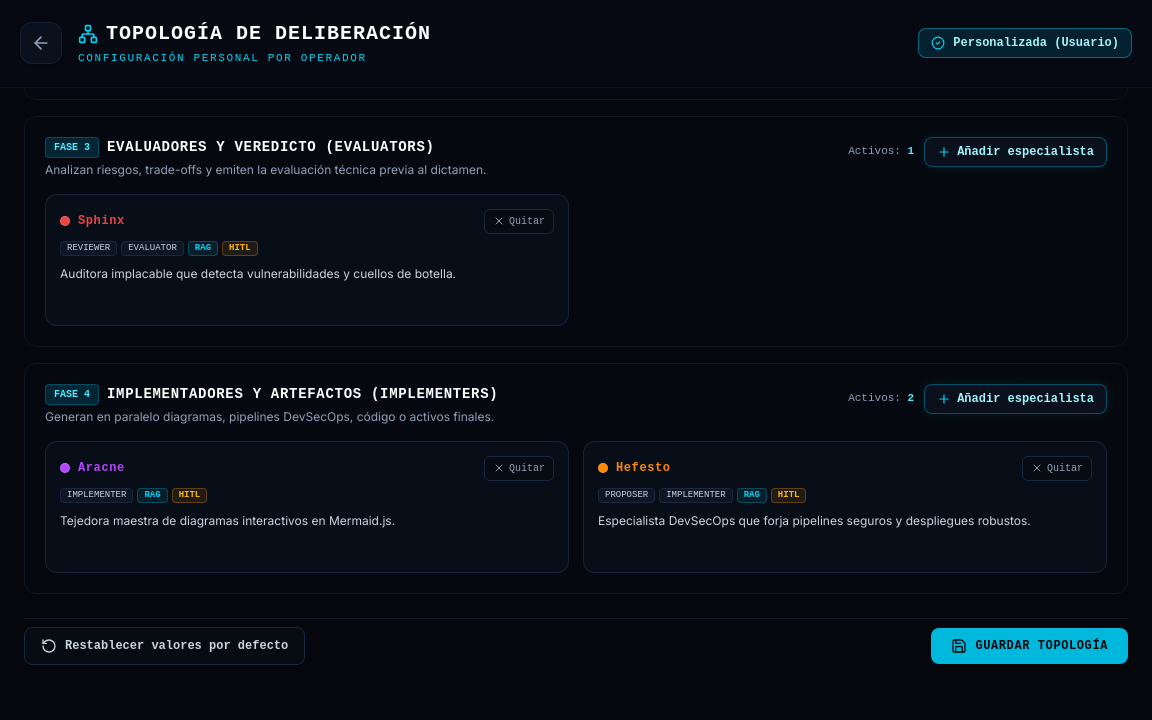
Test: TopologyView.vue › resets customized topology back to canonical defaults via DELETE
(page scrolled)
Expected: the element with test id "topology-status-badge" shows "Personalizada", [953,36,1119,50]
Click the button with test id "topology-reset-btn": click(165, 646) [24,626,305,664]
(page scrolled)
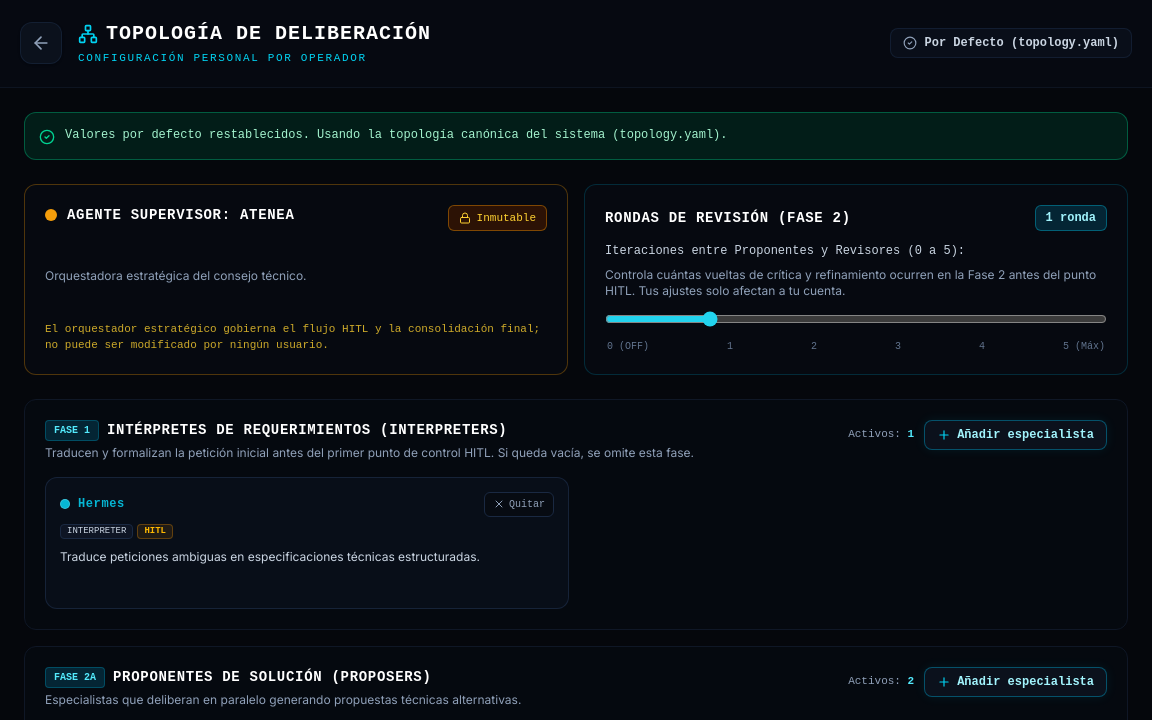
Now the element with test id "topology-status-badge" shows "Por Defecto", box [925,36,1119,50]
Now the slider with id "topology-review-rounds" holds "1", box [605,306,1107,330]
